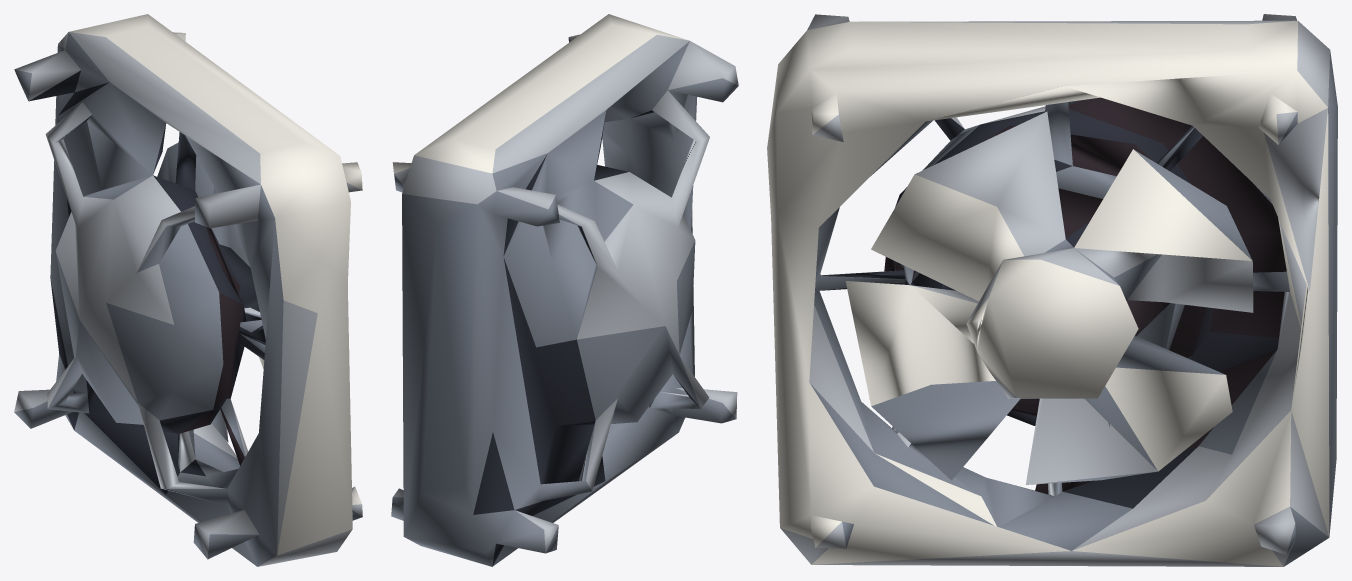
The model's file is SM_industrial_fan.glb.
3 views of the same model, side by side, from view 1: azimuth 30°, elevation 25°; view 2: azimuth 150°, elevation 25°; view 3: azimuth 270°, elevation 25° (orthographic). The views are drawn at different scales.
Parts seen in each view (by area): view 1: SM_industrial_fan; view 2: SM_industrial_fan; view 3: SM_industrial_fan.
Part boxes in pixels (left/top/right/bottom): SM_industrial_fan: left=14, top=14, right=362, bottom=566; SM_industrial_fan: left=391, top=14, right=738, bottom=566; SM_industrial_fan: left=767, top=14, right=1337, bottom=566.
Size of the model in its own units: 0.2959 by 0.6 by 0.6123.
1 material, 1 textured.
